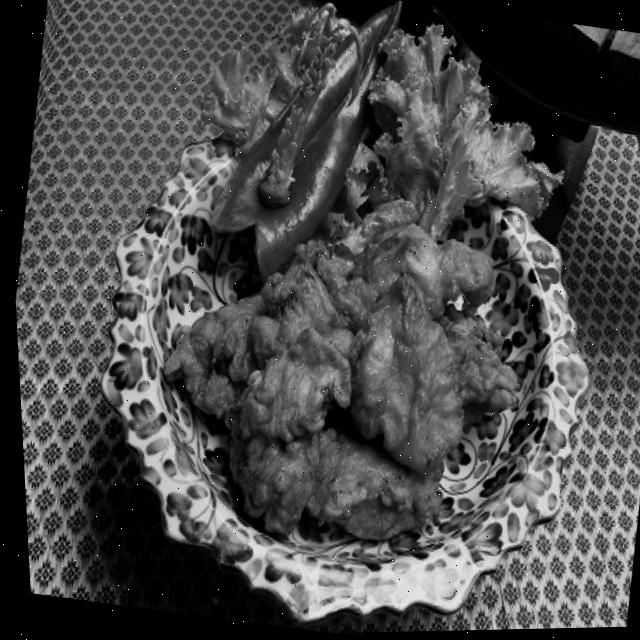鸡肉料理 含炸鸡: (97, 157, 592, 626)
